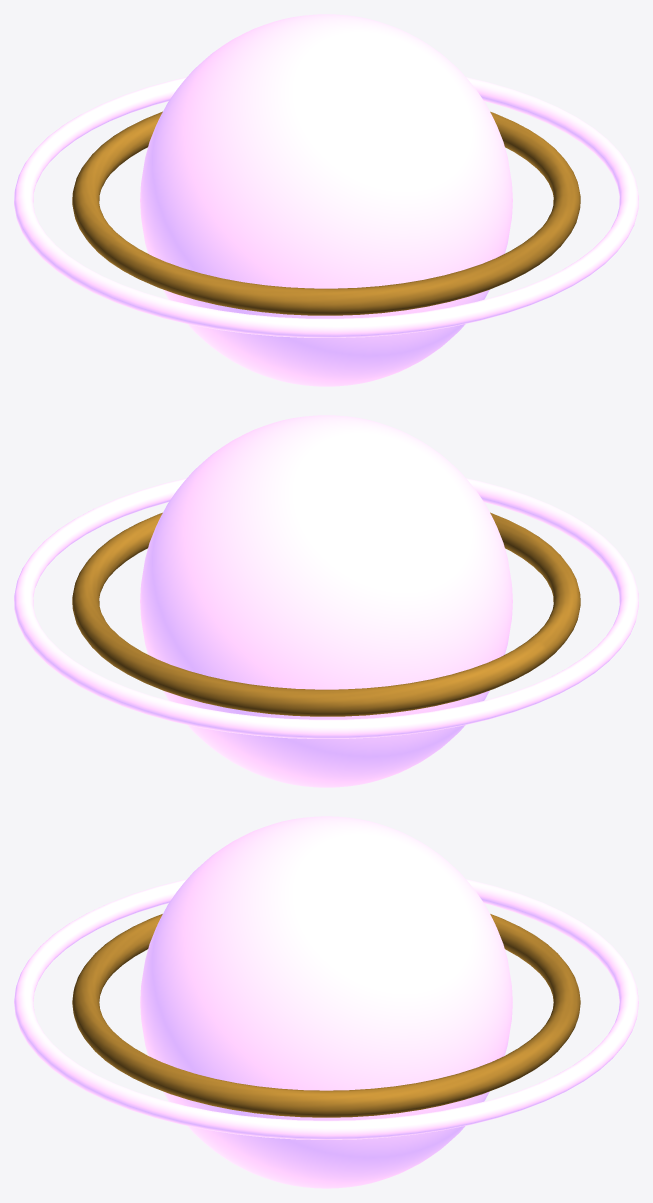
File: Mage_pet.glb
The picture shows the model from 3 angles, top to bottom: view 1: azimuth 30°, elevation 25°; view 2: azimuth 150°, elevation 25°; view 3: azimuth 270°, elevation 25°; orthographic projection.
Parts seen in each view (by area): view 1: Core, RingB, RingA; view 2: Core, RingB, RingA; view 3: Core, RingB, RingA.
Boxes of the visible parts, bbox=[...] form: Core: bbox=[140, 14, 512, 386]; RingB: bbox=[14, 77, 638, 337]; RingA: bbox=[72, 111, 580, 315]; Core: bbox=[140, 415, 512, 787]; RingB: bbox=[14, 478, 638, 738]; RingA: bbox=[72, 512, 580, 716]; Core: bbox=[140, 816, 512, 1188]; RingB: bbox=[14, 879, 638, 1139]; RingA: bbox=[72, 914, 580, 1117].
Bounding box in the file's own units: 1.61 × 0.96 × 1.61.
Materials: 2 (1 with a texture image).
